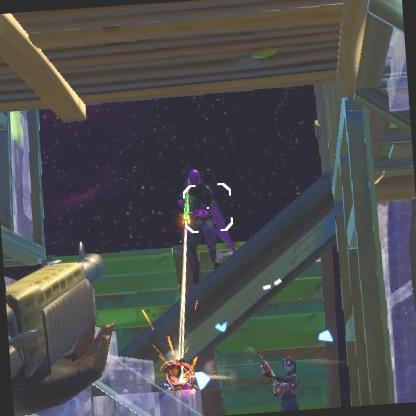person: (180, 170, 226, 274), (261, 352, 305, 412)
